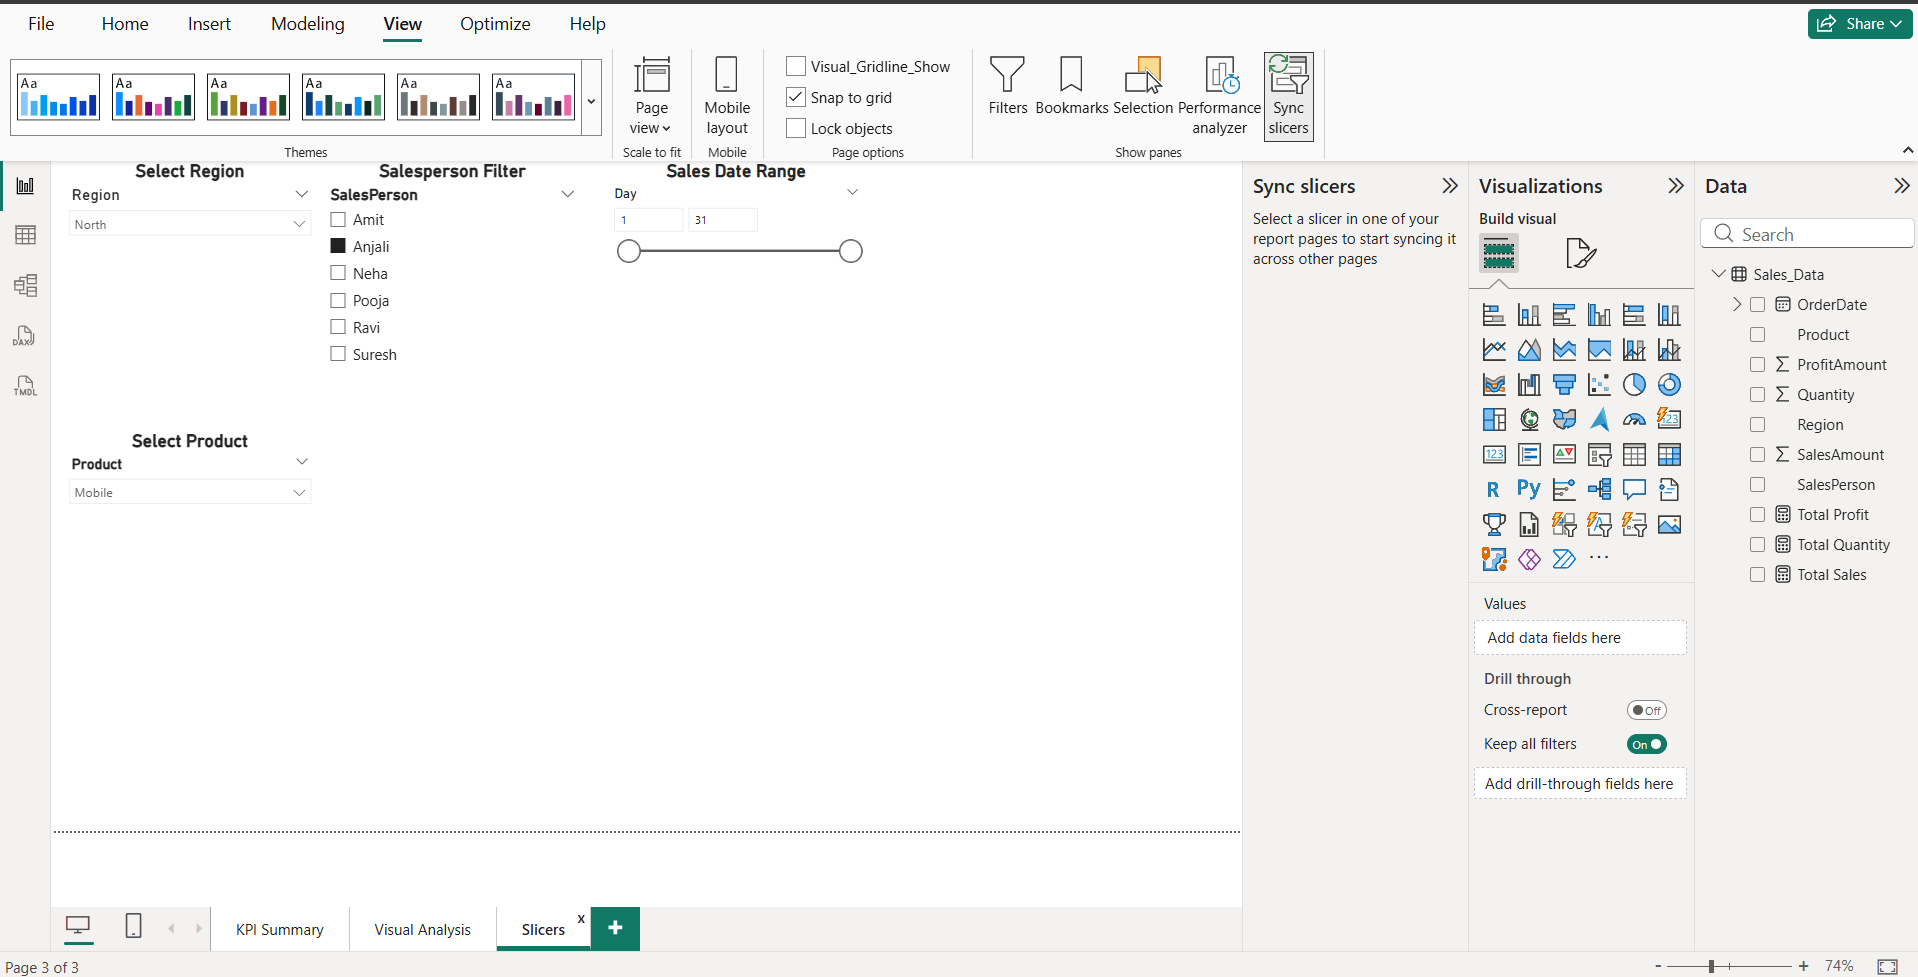

What the dashboard file says about the page in this screenshot:
{"tool":"powerbi","page":{"name":"Slicers","canvas":[1280,720],"ordinal":3},"visuals":[{"type":"slicer","title":"Select Region","fields":{"Values":["Sales_Data.Region"]},"box":[0,0,288,304],"z":0},{"type":"slicer","title":"Select Product","fields":{"Values":["Sales_Data.Product"]},"box":[0,416,272,288],"z":1000},{"type":"slicer","title":"Salesperson Filter","fields":{"Values":["Sales_Data.SalesPerson"]},"box":[288,0,288,288],"z":2000},{"type":"slicer","title":"Sales Date Range","fields":{"Values":["Sales_Data.OrderDate.Variation.Date Hierarchy.Quarter","Sales_Data.OrderDate.Variation.Date Hierarchy.Month"]},"box":[592,0,288,288],"z":3000}]}

Visuals, with their boxes on the page's 1280x720 design canvas (x1, y1, x2, y2). These are canvas units, not pixel positions in the 1918x977 screenshot, which may show the page scaled, cropped or inside an application window:
"Select Region" slicer: region(0, 0, 288, 304)
"Select Product" slicer: region(0, 416, 272, 704)
"Salesperson Filter" slicer: region(288, 0, 576, 288)
"Sales Date Range" slicer: region(592, 0, 880, 288)
